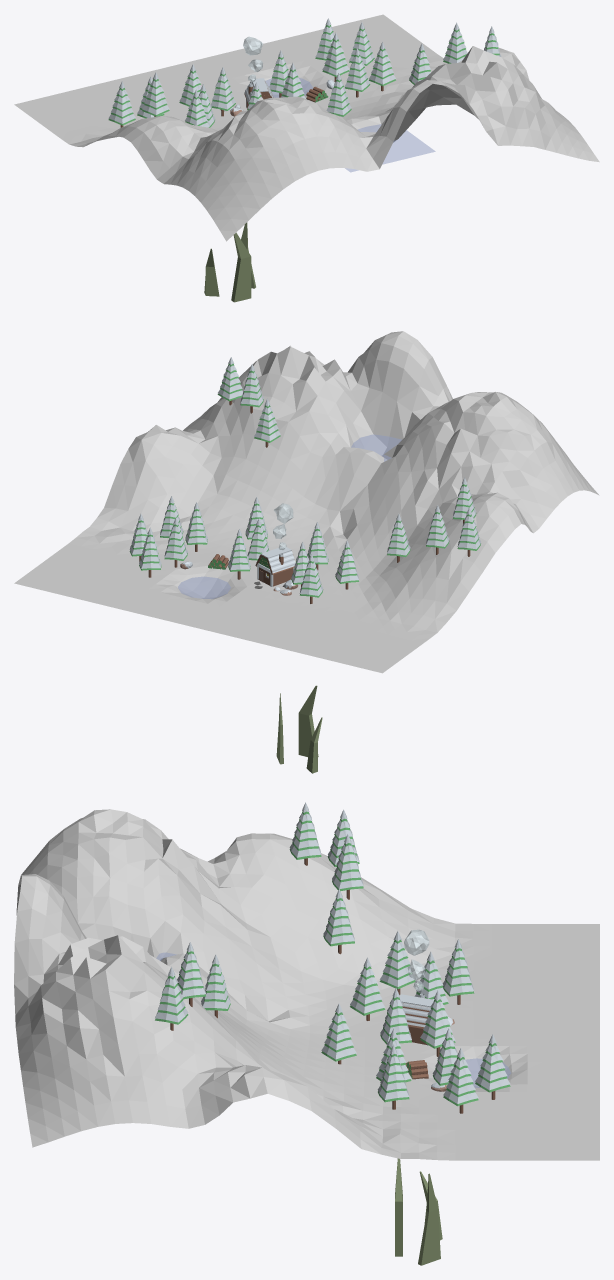
File: snow-correct.dae
The picture shows the model from 3 angles, top to bottom: view 1: azimuth 30°, elevation 25°; view 2: azimuth 150°, elevation 25°; view 3: azimuth 270°, elevation 25°; orthographic projection. The views are drawn at different scales.
Parts seen in each view (by area): view 1: Plane, grass, Plane_003, Cylinder_017, Cylinder_012, Cylinder_015, Cylinder_011, Cylinder_002, Cylinder_018, Cylinder_009, Cylinder_004, Cylinder_016 (+6 smaller); view 2: Plane, grass, Plane_001, Cylinder_005, Plane_003, Cylinder_006, Cylinder_001, Cylinder_012, Cylinder_015, Cylinder_003, Cylinder_010, Cylinder_004 (+4 smaller); view 3: Plane, grass, Cylinder_014, Cylinder_016, Cylinder_000, Cylinder_001, Cylinder_009, Cylinder_006, Cylinder_017, Cylinder_010, Cylinder_013, Cylinder_003 (+8 smaller).
Boxes of the visible parts, bbox=[...] form: Plane: bbox=[14, 14, 599, 241]; grass: bbox=[204, 222, 255, 302]; Plane_003: bbox=[345, 124, 435, 172]; Cylinder_017: bbox=[369, 42, 395, 91]; Cylinder_012: bbox=[108, 81, 135, 127]; Cylinder_015: bbox=[322, 33, 349, 81]; Cylinder_011: bbox=[142, 72, 169, 116]; Cylinder_002: bbox=[210, 67, 235, 116]; Cylinder_018: bbox=[344, 48, 370, 97]; Cylinder_009: bbox=[326, 73, 351, 116]; Cylinder_004: bbox=[443, 22, 467, 63]; Cylinder_016: bbox=[349, 22, 374, 65]; Plane: bbox=[14, 331, 599, 673]; grass: bbox=[276, 685, 322, 773]; Plane_001: bbox=[178, 576, 230, 599]; Cylinder_005: bbox=[254, 398, 280, 447]; Plane_003: bbox=[351, 434, 401, 461]; Cylinder_006: bbox=[217, 357, 242, 405]; Cylinder_001: bbox=[335, 540, 358, 589]; Cylinder_012: bbox=[457, 507, 480, 556]; Cylinder_015: bbox=[164, 517, 187, 567]; Cylinder_003: bbox=[299, 554, 323, 603]; Cylinder_010: bbox=[387, 513, 410, 562]; Cylinder_004: bbox=[240, 364, 263, 413]; Plane: bbox=[14, 809, 599, 1160]; grass: bbox=[395, 1158, 442, 1265]; Cylinder_014: bbox=[475, 1034, 510, 1099]; Cylinder_016: bbox=[443, 1048, 478, 1113]; Cylinder_000: bbox=[350, 957, 385, 1020]; Cylinder_001: bbox=[379, 931, 415, 994]; Cylinder_009: bbox=[321, 1003, 356, 1064]; Cylinder_006: bbox=[155, 967, 188, 1030]; Cylinder_017: bbox=[377, 1044, 409, 1109]; Cylinder_010: bbox=[323, 889, 354, 954]; Cylinder_013: bbox=[332, 834, 363, 899]; Cylinder_003: bbox=[442, 939, 474, 1004].
Size of the model in its own units: 19.27 by 19.33 by 14.8.
